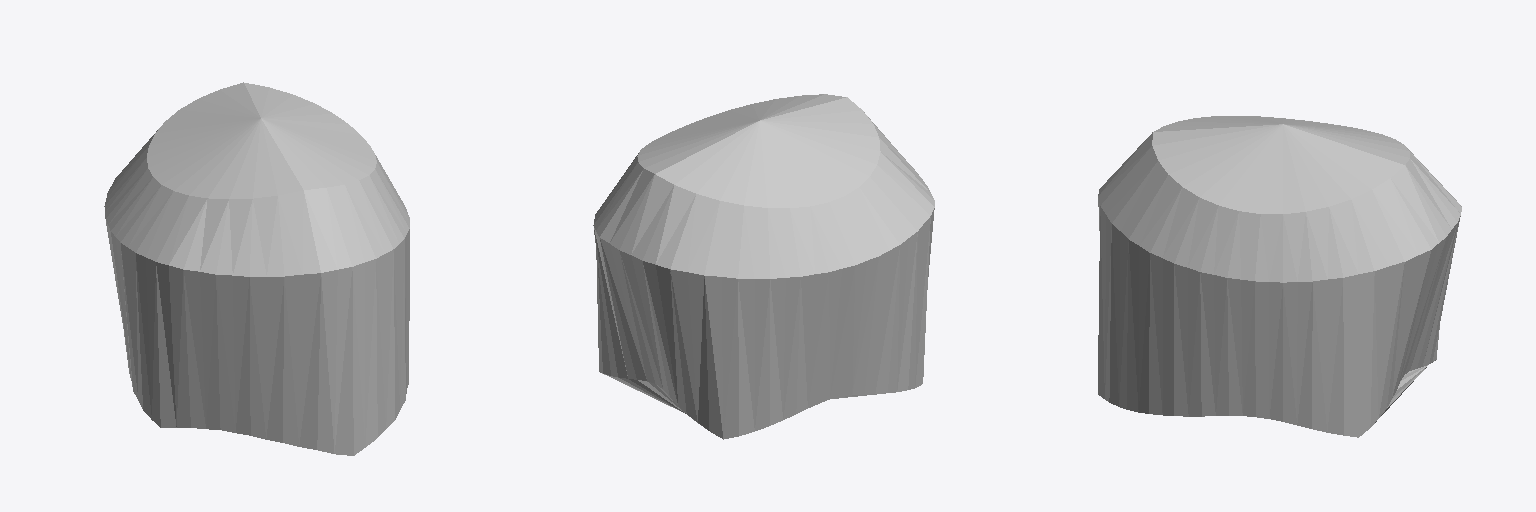
File: copper_ore.rock.obj
3 renders of one model, left to right at view 1: azimuth 30°, elevation 25°; view 2: azimuth 150°, elevation 25°; view 3: azimuth 270°, elevation 25°, orthographic.
Parts seen in each view (by area): view 1: Cone; view 2: Cone; view 3: Cone.
Boxes of the visible parts, x1,y1,x2,y2 form: Cone: [104, 82, 409, 455]; Cone: [593, 94, 934, 439]; Cone: [1098, 116, 1461, 437].
Size of the model in its own units: 2.45 by 2.33 by 2.86.